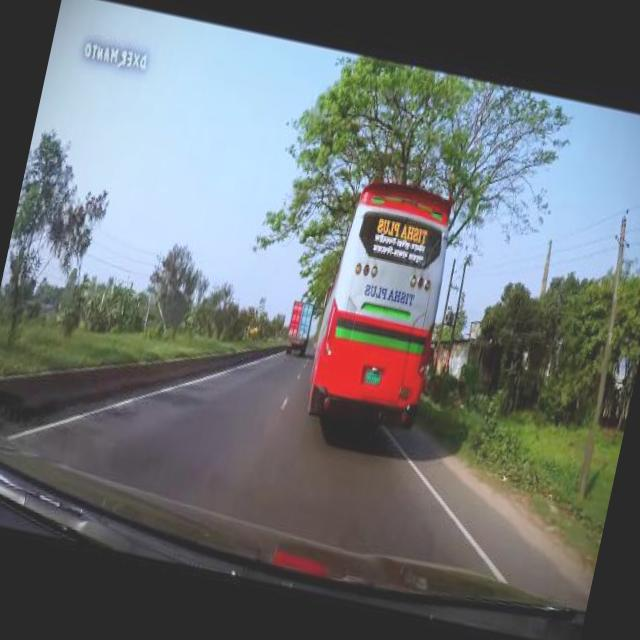bus: (302, 170, 464, 432)
truck: (286, 295, 318, 352)
